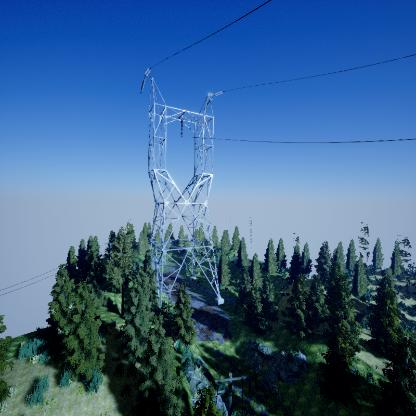tower: (141, 68, 224, 307)
